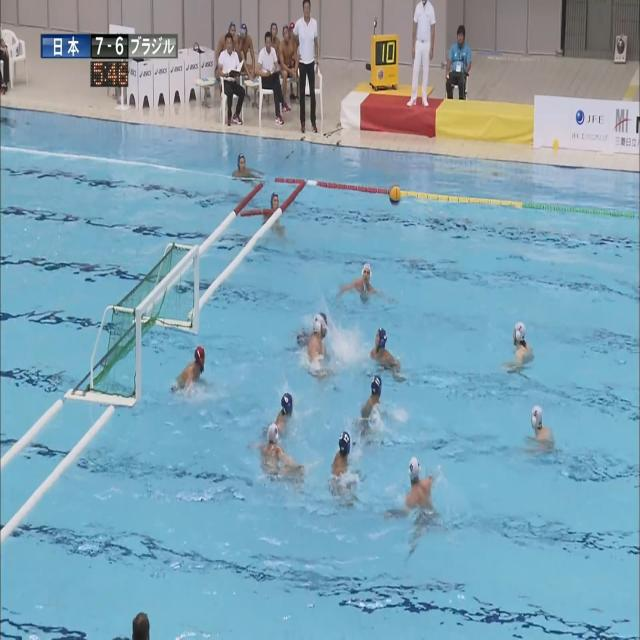ball: (390, 185, 400, 205)
